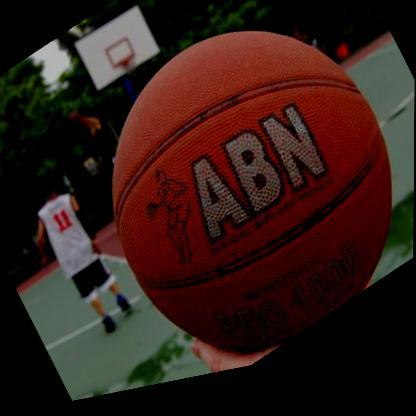basketball: (57, 0, 416, 407), (67, 109, 89, 133)
